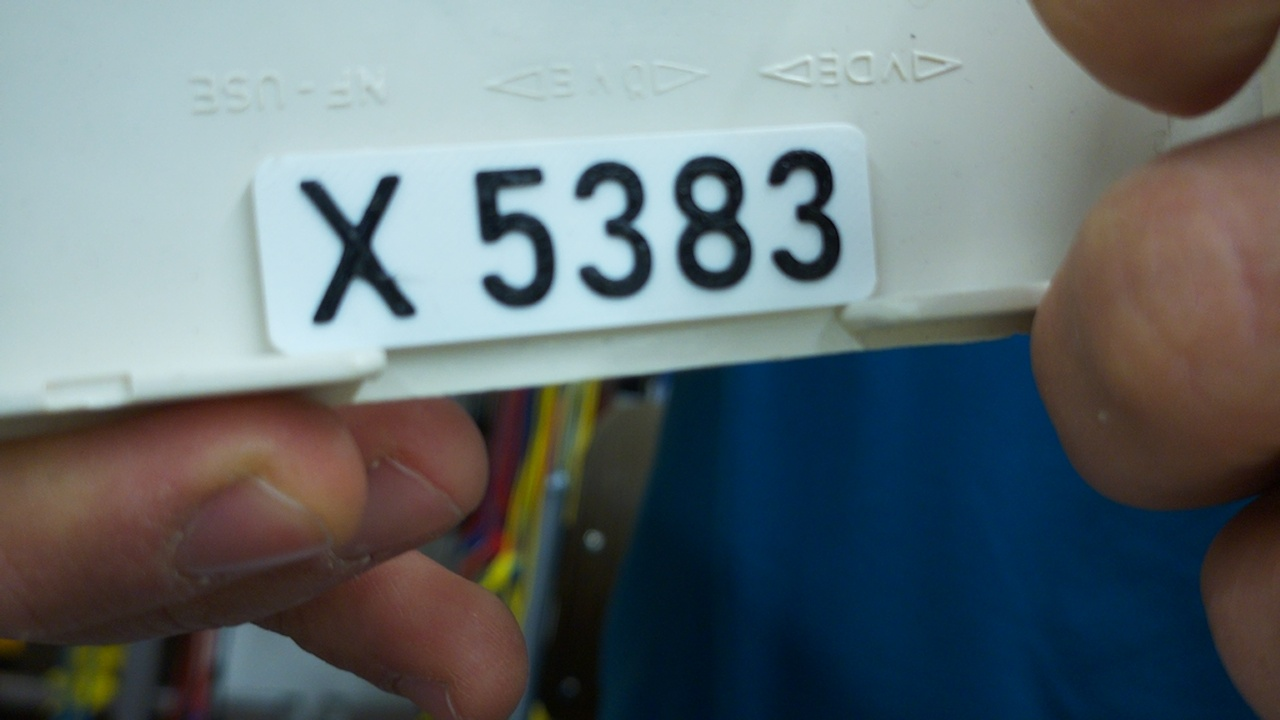license_plate: (250, 123, 881, 368)
